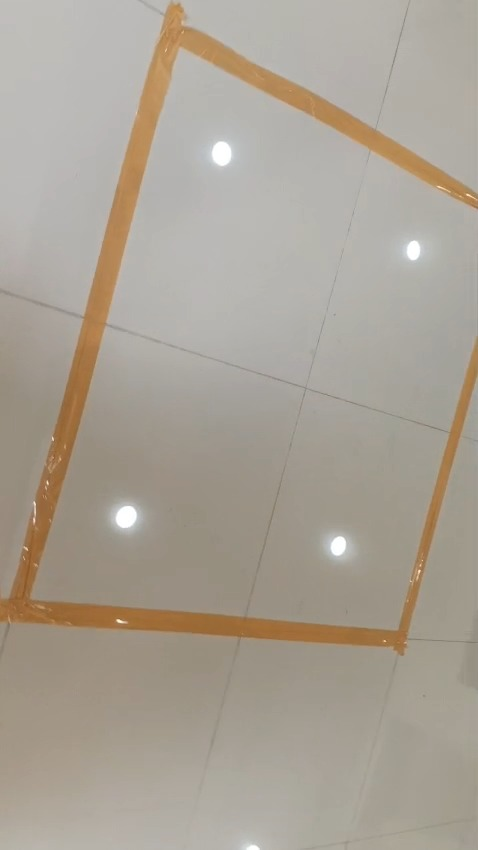floor marking: (0, 4, 477, 653)
